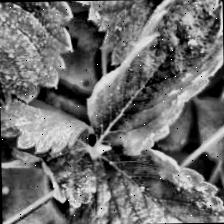Powdery Mildew Leaf: (83, 0, 224, 156), (63, 143, 224, 224), (0, 79, 98, 209)
